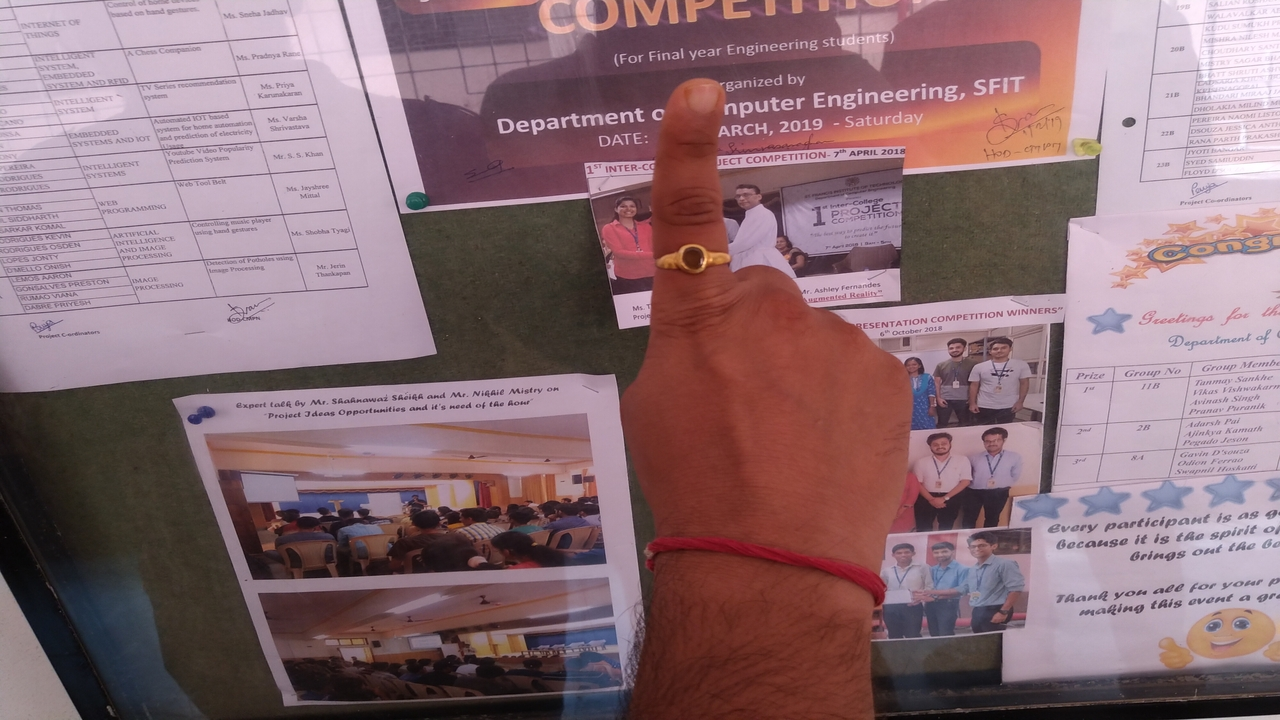fingertip: (660, 72, 728, 132)
